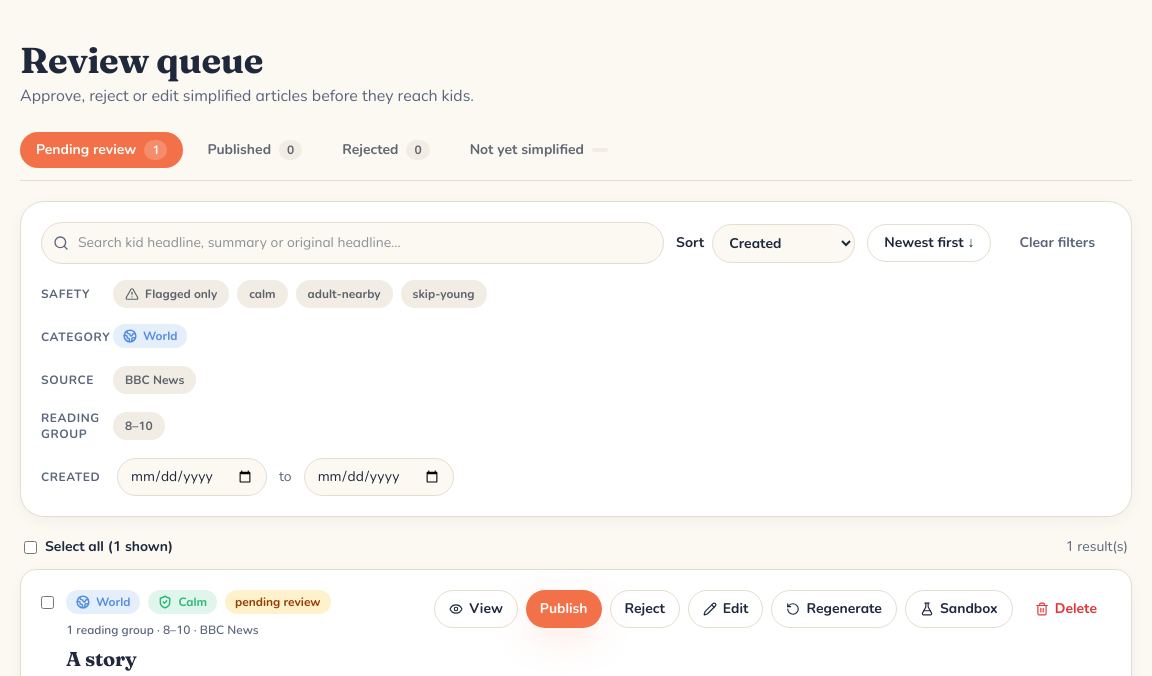
review queue, server unreachable › a bulk action reports the failure
The width and height of the screenshot is (1152, 676).
Expected: the button "A story" is shown, [66, 646, 136, 671]
Click the checkbox labelled "Select all (1 shown)" at {"x": 30, "y": 547}, box [24, 540, 37, 554]
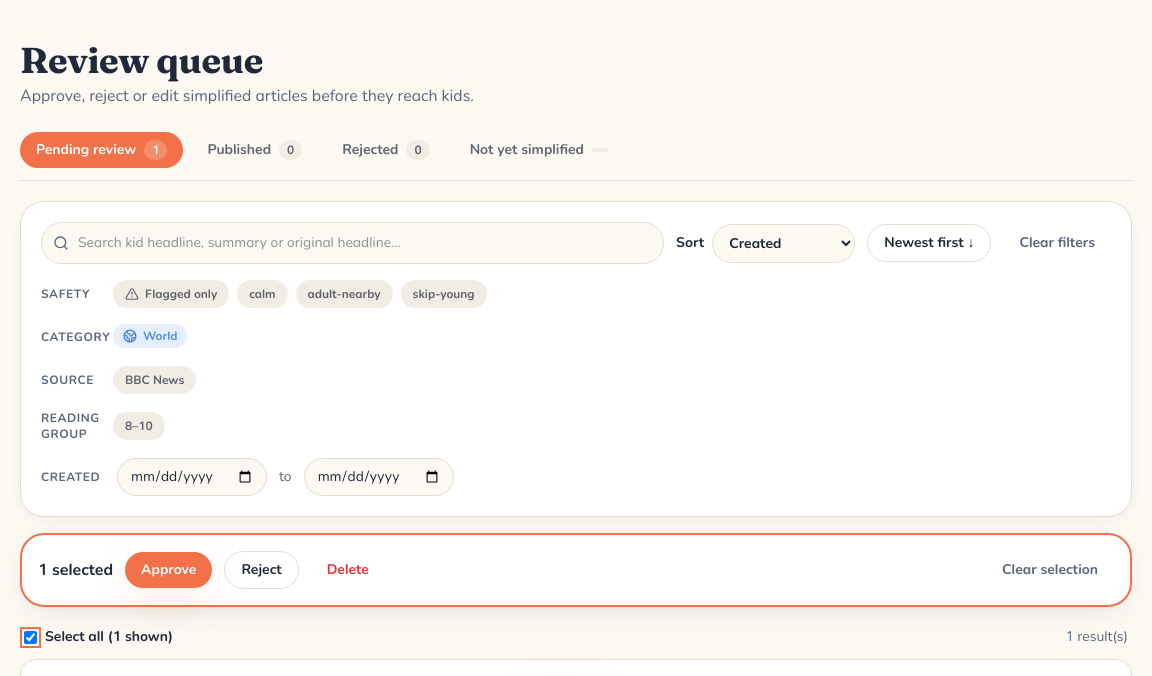
Click the button "Approve" at {"x": 169, "y": 570}, box [125, 552, 212, 588]
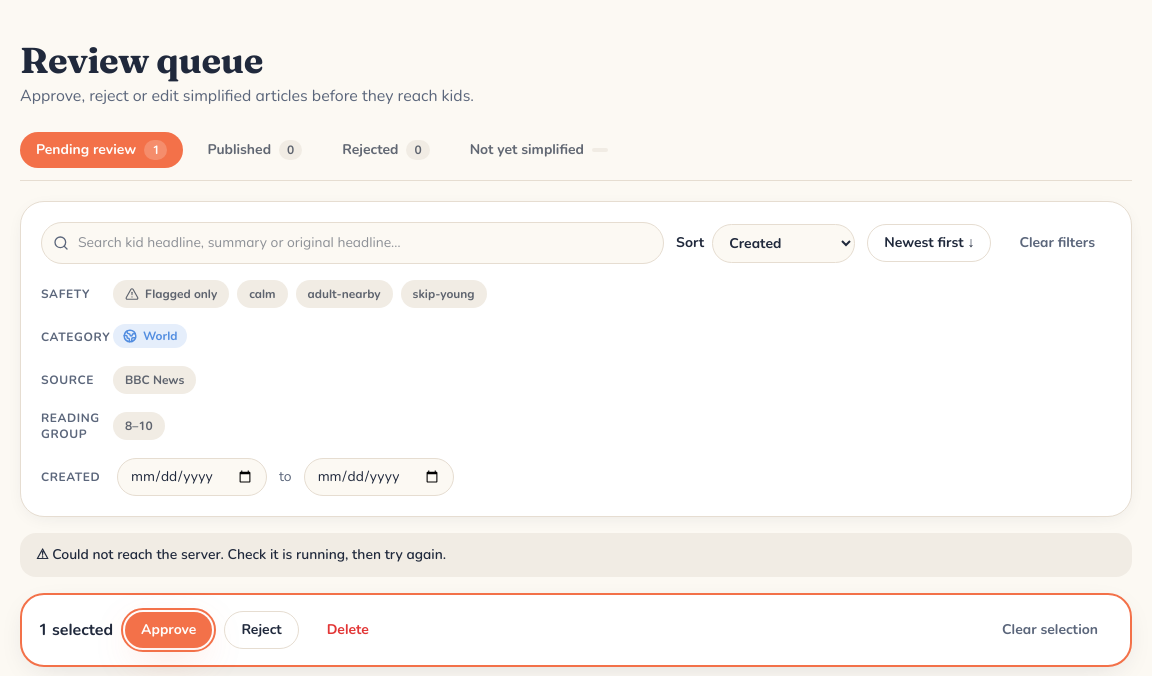
Result: the text "⚠ Could not reach the server. Check it is running, then try again." is shown at [20, 533, 1132, 577]
